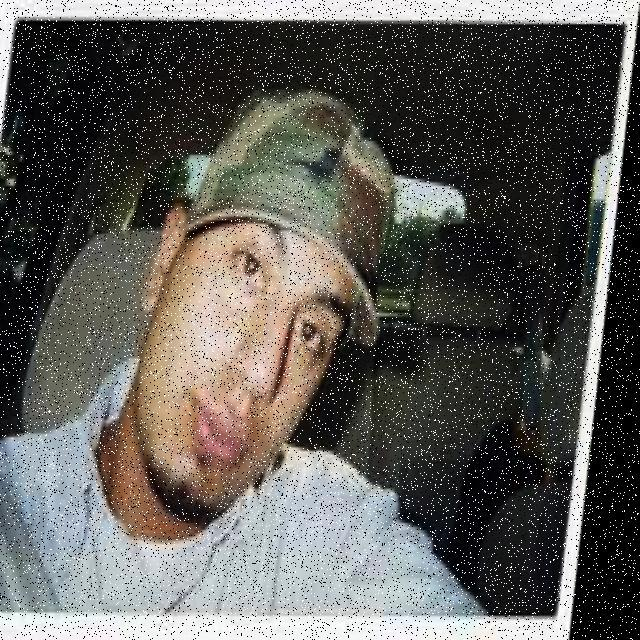seatbelt: (0, 402, 115, 616)
